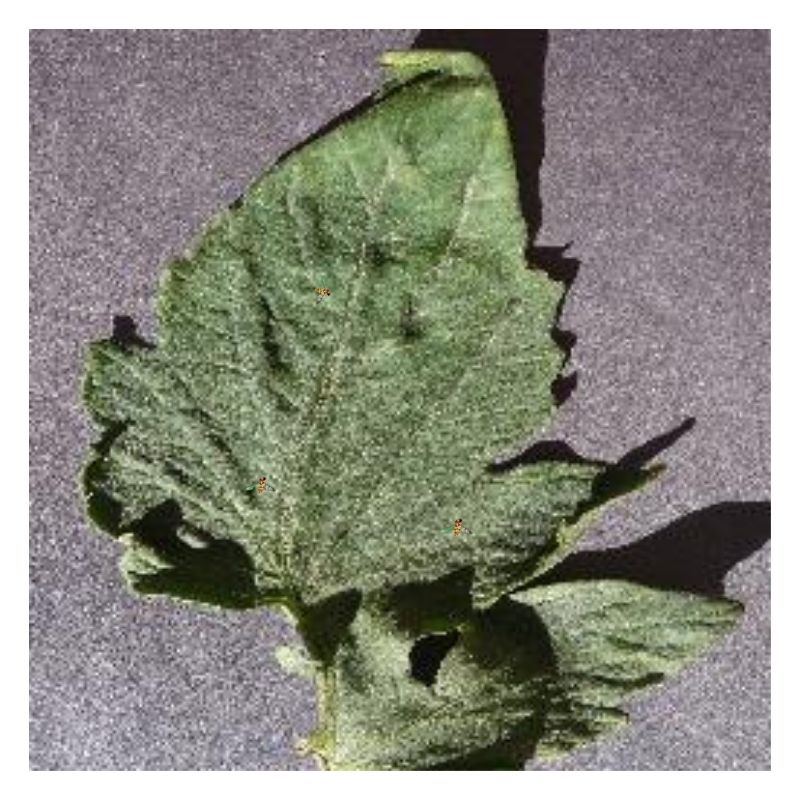liriomyza: (447, 516, 472, 539), (252, 472, 270, 493), (313, 282, 333, 300)
